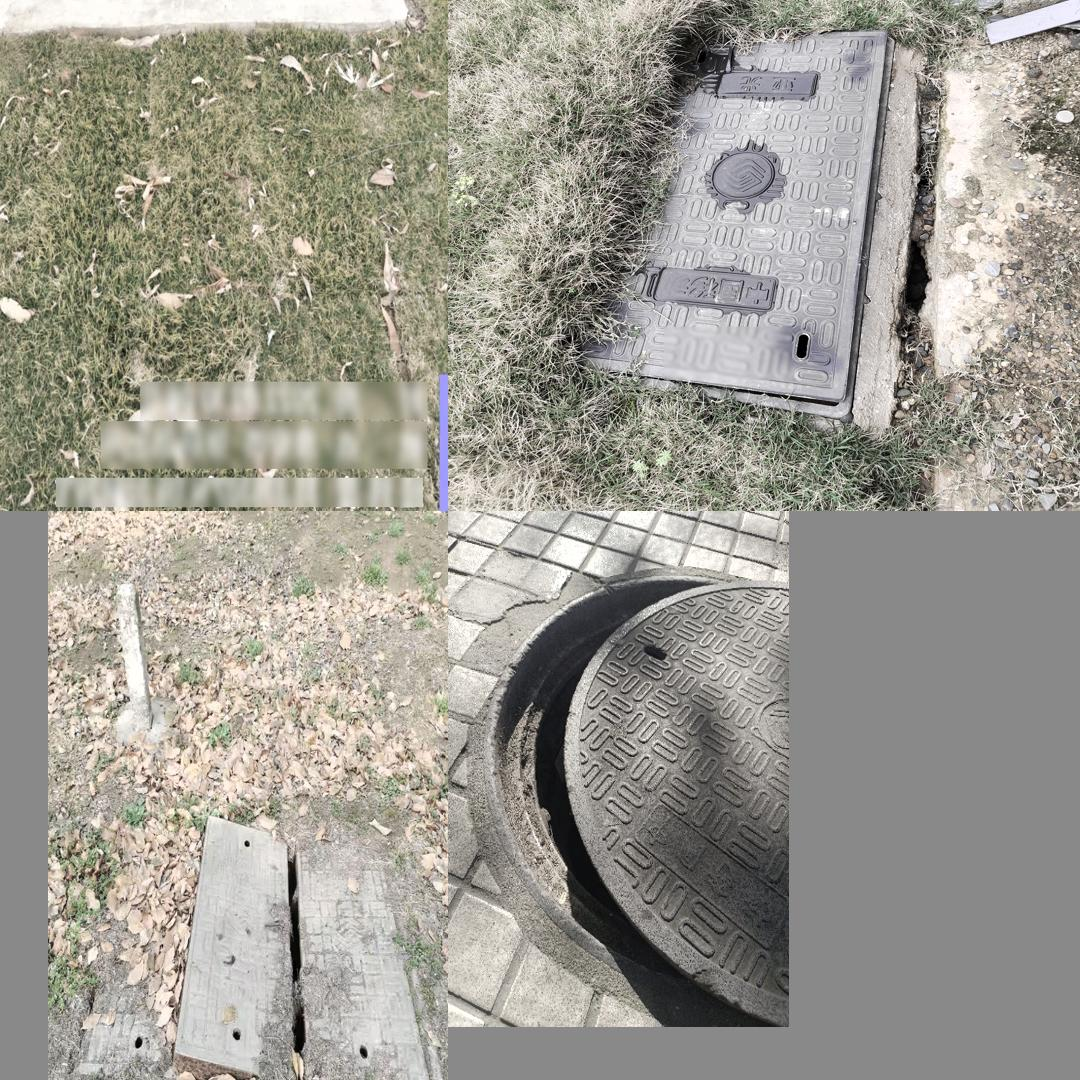uncovered: (481, 571, 788, 1027), (571, 30, 894, 418), (55, 814, 441, 1080)
